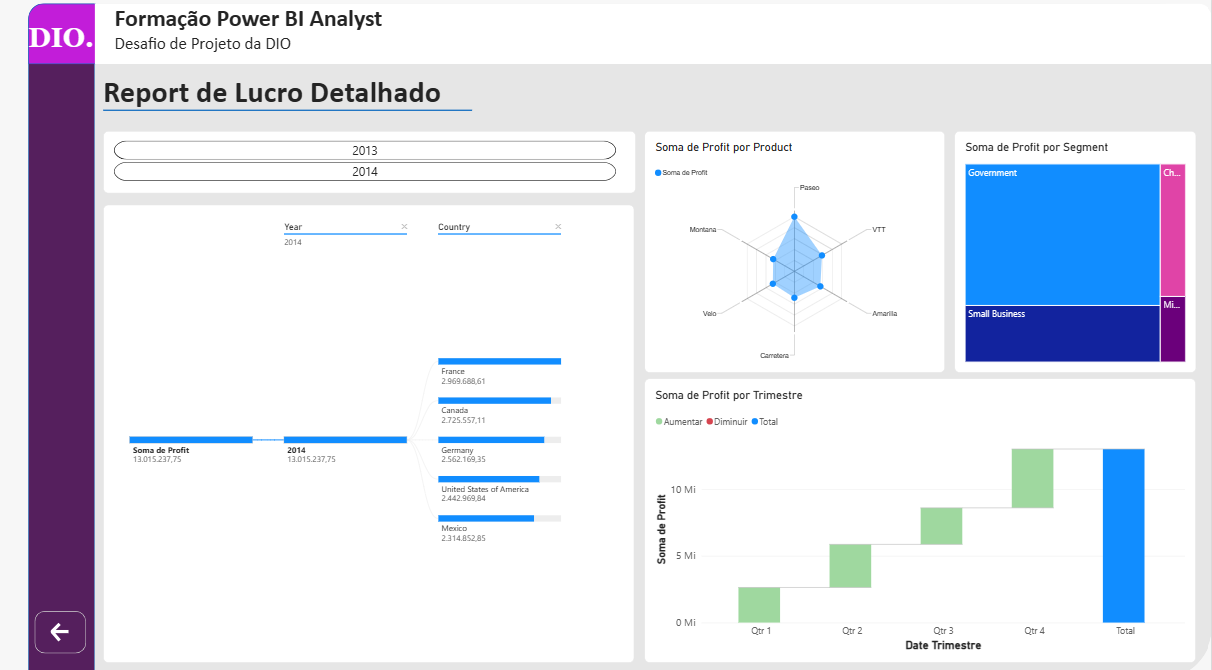

The dashboard page shown, as its layout file describes it:
{"tool":"powerbi","page":{"name":"Página 2","canvas":[1920,1080],"ordinal":1},"visuals":[{"type":"shape","box":[66.9,12.3,1853.1,1067.7],"z":0},{"type":"shape","box":[48.9,12.3,105,1067.7],"z":1},{"type":"shape","box":[48.9,12.7,106.8,95.9],"z":2},{"type":"shape","box":[153.8,12.7,1766.2,95.9],"z":3},{"type":"textbox","box":[184.6,12.7,524.8,95.9],"z":4},{"type":"textbox","box":[48.9,41.6,135.7,67],"z":5},{"type":"decompositionTreeVisual","fields":{"Analyze":["Sum(financials.Profit)"],"ExplainBy":["financials.Year","financials.Country"]},"box":[168.5,329.4,838.7,723.2],"z":6},{"type":"treemap","fields":{"Group":["financials.Segment"],"Values":["Sum(financials.Profit)"]},"box":[1511.1,213.5,381.8,381.8],"z":7},{"type":"RadarChart1446119667547","fields":{"Category":["financials.Product"],"Y":["Sum(financials.Profit)"]},"box":[1022.5,213.5,474.1,381.8],"z":8},{"type":"waterfallChart","fields":{"Category":["financials.Date.Variation.Hierarquia de datas.Trimestre"],"Y":["Sum(financials.Profit)"]},"box":[1022.5,604.4,870.4,448.8],"z":9},{"type":"actionButton","box":[59.7,971.8,81.4,67],"z":10},{"type":"textbox","box":[168.3,123.1,754.6,90.5],"z":11},{"type":"shape","box":[168.3,168.3,582.7,25.3],"z":12},{"type":"listSlicer","fields":{"Values":["financials.Year"]},"box":[168.5,213.9,840.6,98.4],"z":13}]}

Visuals, with their boxes on the page's 1920x1080 design canvas (x1, y1, x2, y2). These are canvas units, not pixel positions in the 1212x670 screenshot, which may show the page scaled, cropped or inside an application window:
shape: x1=67, y1=12, x2=1920, y2=1080
shape: x1=49, y1=12, x2=154, y2=1080
shape: x1=49, y1=13, x2=156, y2=109
shape: x1=154, y1=13, x2=1920, y2=109
textbox: x1=185, y1=13, x2=709, y2=109
textbox: x1=49, y1=42, x2=185, y2=109
decompositionTreeVisual - Sum(financials.Profit) x financials.Year: x1=168, y1=329, x2=1007, y2=1053
treemap - financials.Segment x Sum(financials.Profit): x1=1511, y1=214, x2=1893, y2=595
RadarChart1446119667547 - financials.Product x Sum(financials.Profit): x1=1022, y1=214, x2=1497, y2=595
waterfallChart - financials.Date.Variation.Hierarquia de datas.Trimestre x Sum(financials.Profit): x1=1022, y1=604, x2=1893, y2=1053
actionButton: x1=60, y1=972, x2=141, y2=1039
textbox: x1=168, y1=123, x2=923, y2=214
shape: x1=168, y1=168, x2=751, y2=194
listSlicer - financials.Year: x1=168, y1=214, x2=1009, y2=312
